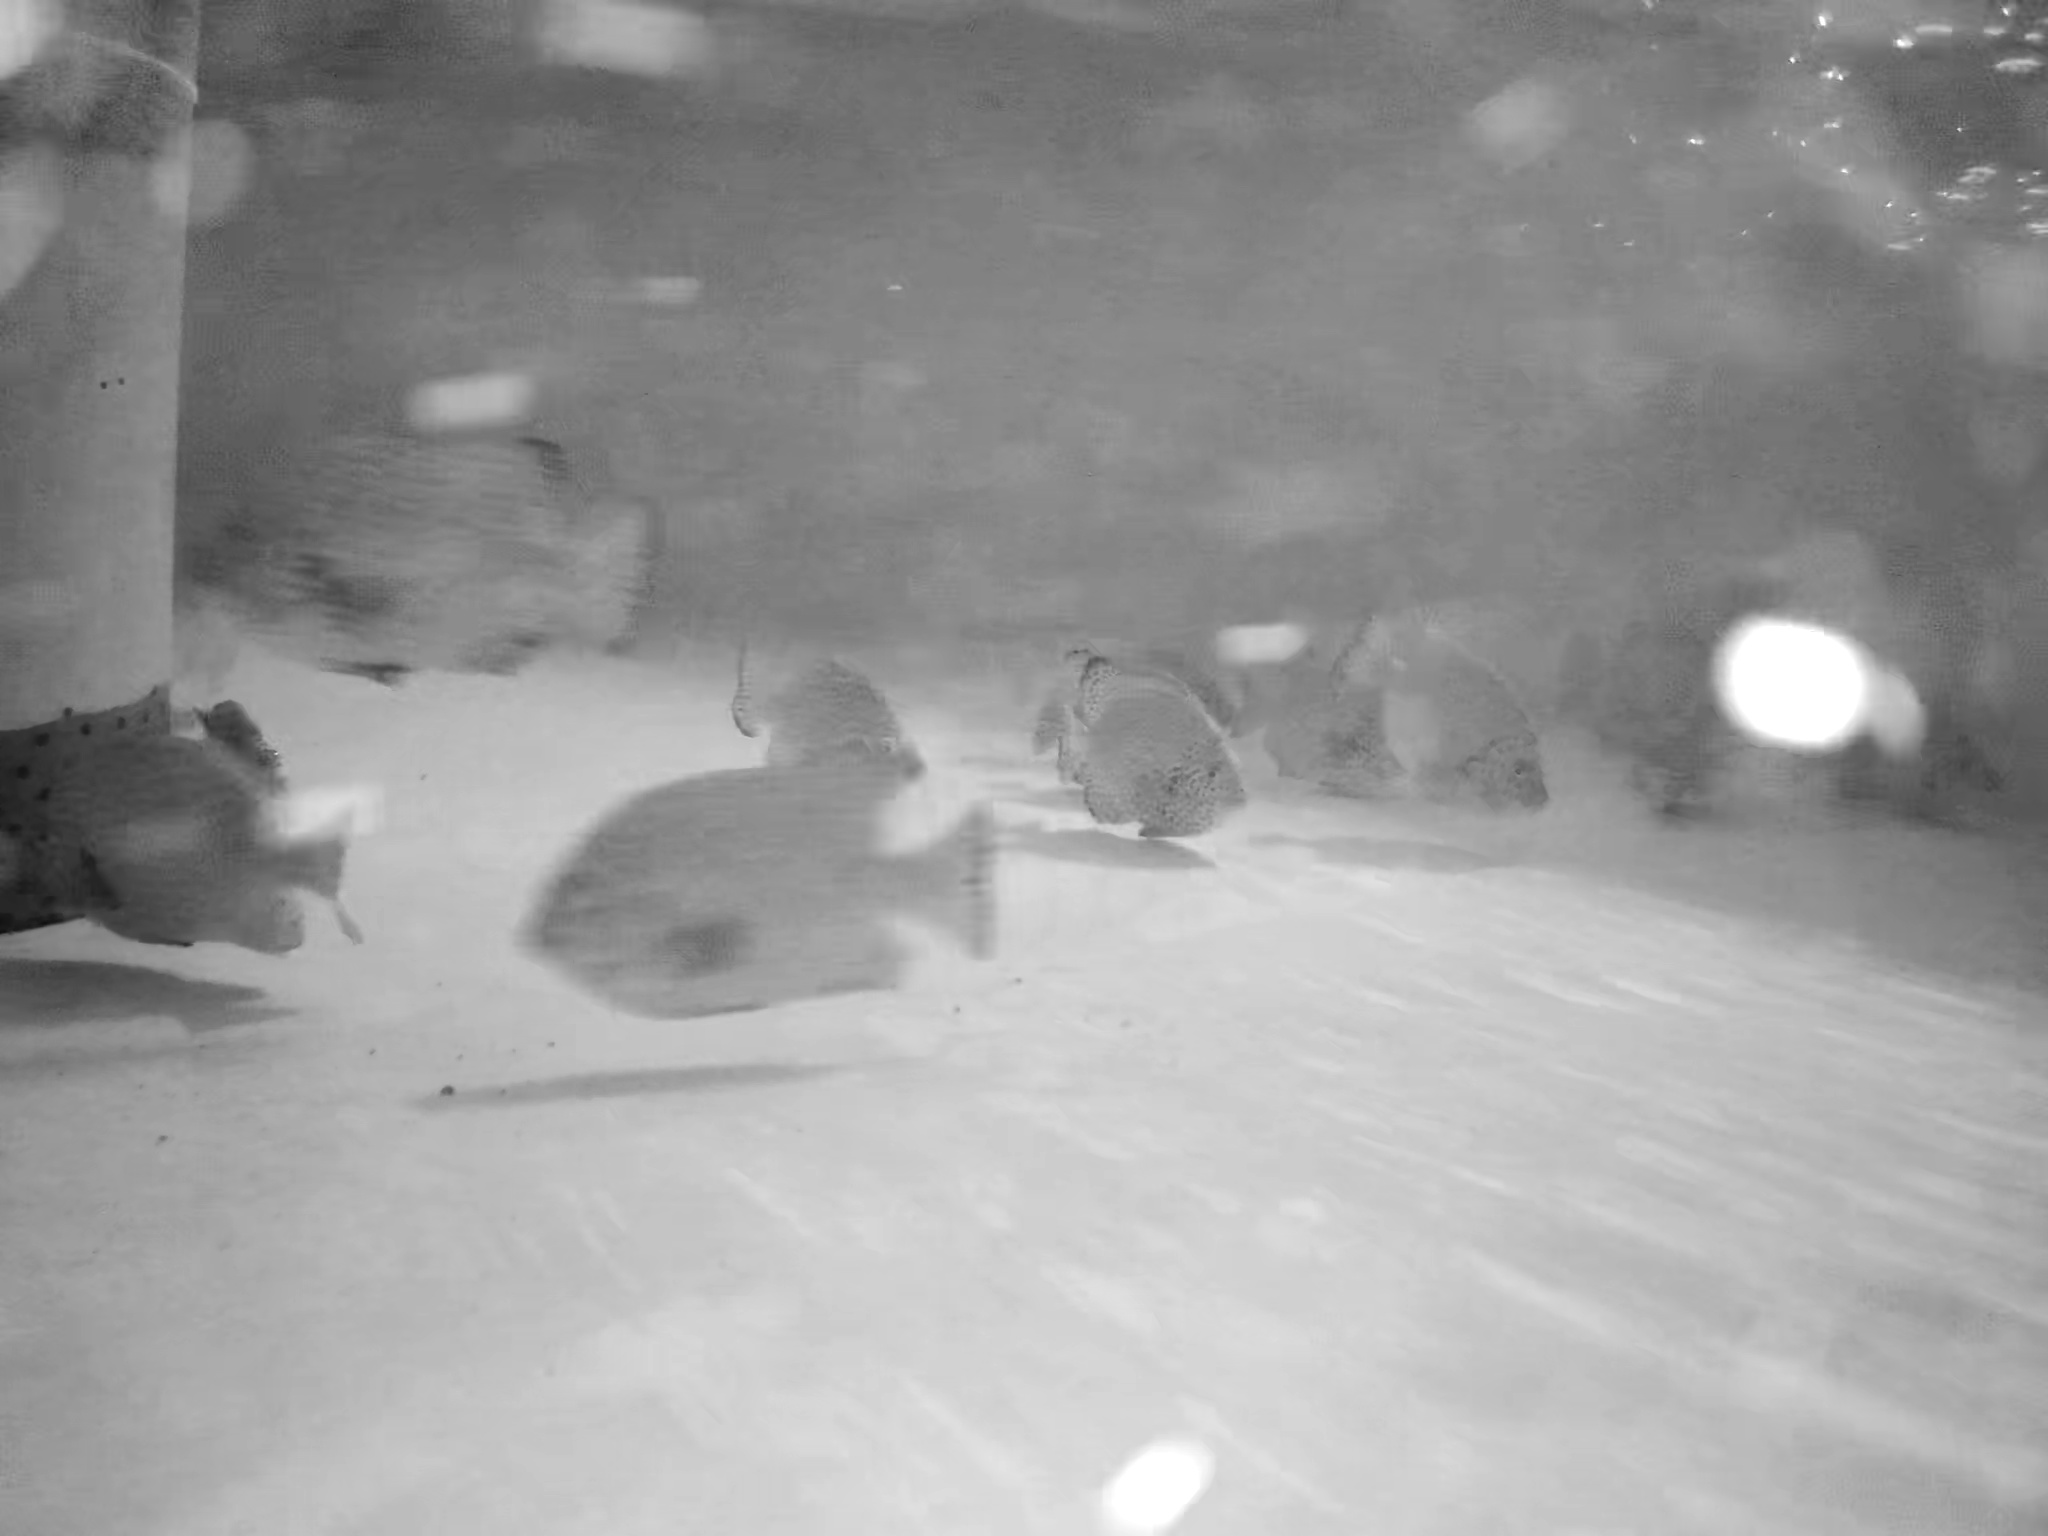fish: (179, 428, 658, 691), (527, 763, 1016, 1020), (35, 728, 345, 984), (1334, 591, 1559, 820), (1045, 653, 1248, 829), (1566, 616, 1750, 783), (743, 641, 927, 792), (1092, 641, 1285, 753), (1287, 708, 1429, 820)
